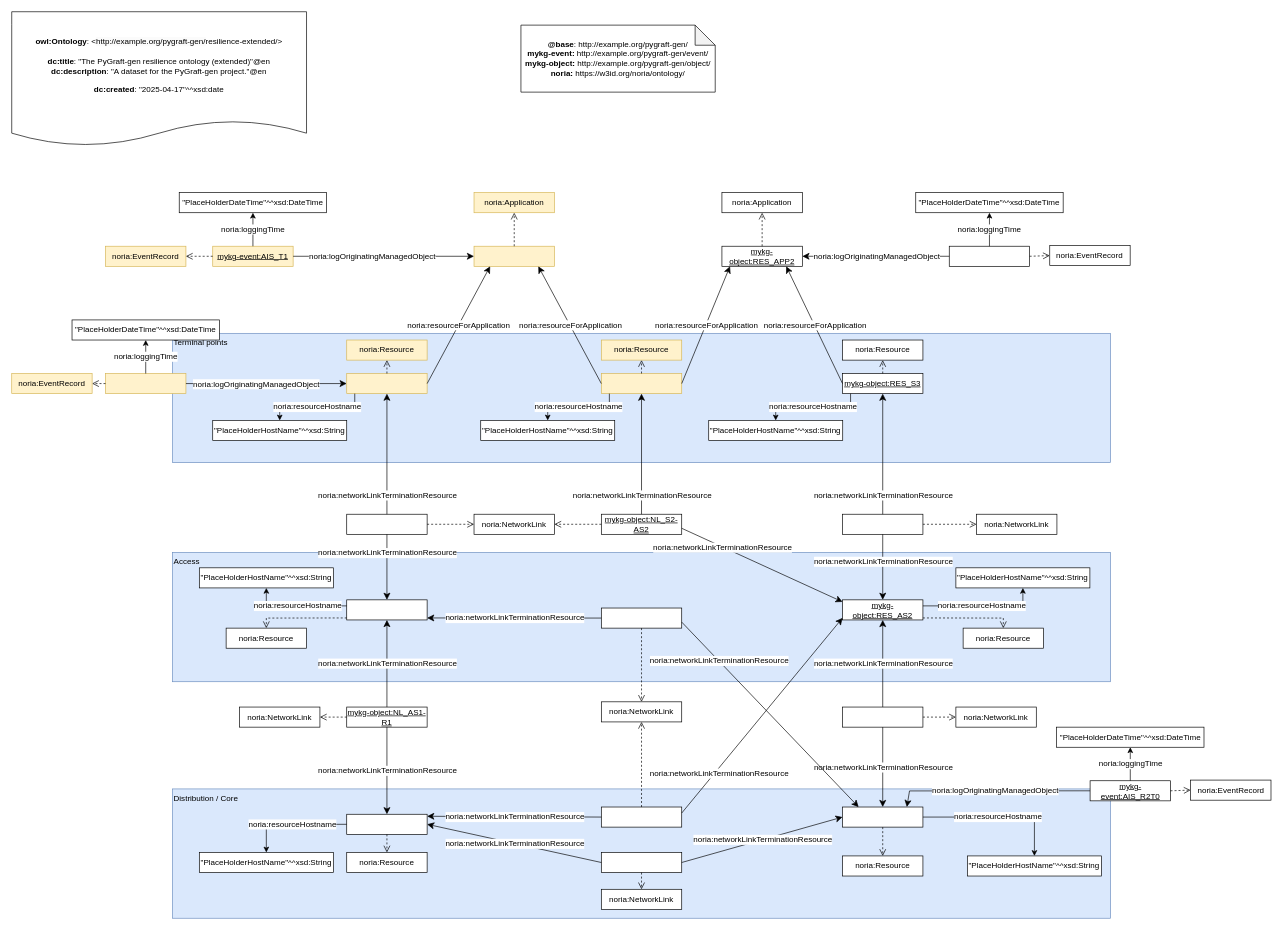
This 1283x930 diagram has some shape labels left out. Each missing label, with the centre of its shape:
mykg-event:AIS_APP2T0: [989,256]
mykg-event:AIS_T0: [145,383]
mykg-object:NL_AS1-R2: [641,617]
mykg-object:NL_AS2-R1: [641,816]
mykg-object:NL_AS2-R2: [882,716]
mykg-object:NL_R1-R2: [641,862]
mykg-object:NL_S1-AS1: [386,524]
mykg-object:NL_S3-AS2: [882,524]
mykg-object:RES_APP1: [513,256]
mykg-object:RES_AS1: [386,609]
mykg-object:RES_R1: [386,824]
mykg-object:RES_R2: [882,816]
mykg-object:RES_S1: [386,383]
mykg-object:RES_S2: [641,383]
